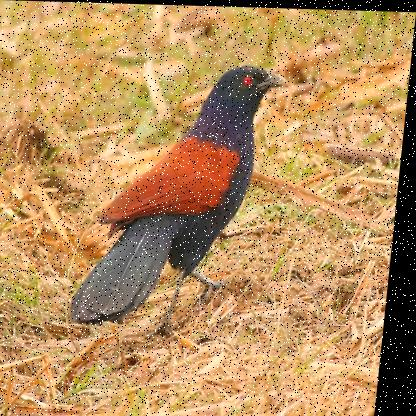Burung: (75, 60, 292, 325)
